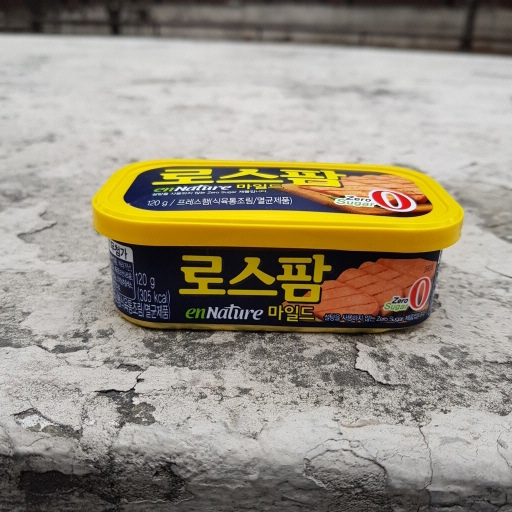Metal_2: (90, 155, 468, 337)
